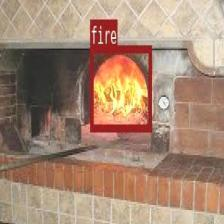fire: (90, 46, 151, 130)
